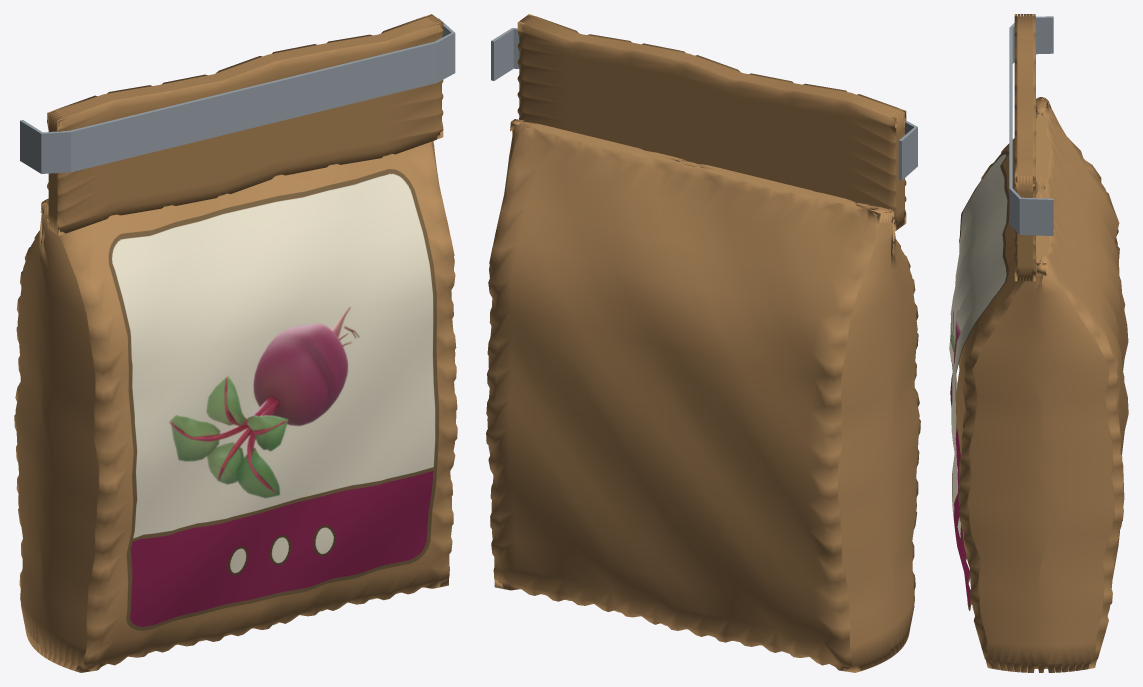
The model's file is beetroot_seed.glb.
3 views of the same model, side by side, from view 1: azimuth 30°, elevation 25°; view 2: azimuth 150°, elevation 25°; view 3: azimuth 270°, elevation 25° (orthographic). The views are drawn at different scales.
Visible parts, largest first — view 1: BeetrootSeed_Label, BeetrootSeed_Body, BeetrootSeed_Fold, BeetrootSeed_Tie; view 2: BeetrootSeed_Body, BeetrootSeed_Fold, BeetrootSeed_Tie; view 3: BeetrootSeed_Body, BeetrootSeed_Label, BeetrootSeed_Fold, BeetrootSeed_Tie.
Boxes of the visible parts, x1=… form: BeetrootSeed_Label: x1=108, y1=169, x2=438, y2=630; BeetrootSeed_Body: x1=14, y1=141, x2=457, y2=672; BeetrootSeed_Fold: x1=47, y1=14, x2=443, y2=235; BeetrootSeed_Tie: x1=20, y1=18, x2=455, y2=173; BeetrootSeed_Body: x1=486, y1=119, x2=920, y2=672; BeetrootSeed_Fold: x1=517, y1=14, x2=906, y2=231; BeetrootSeed_Tie: x1=491, y1=28, x2=917, y2=180; BeetrootSeed_Body: x1=956, y1=97, x2=1128, y2=672; BeetrootSeed_Label: x1=949, y1=150, x2=1009, y2=610; BeetrootSeed_Fold: x1=1014, y1=14, x2=1035, y2=281; BeetrootSeed_Tie: x1=1009, y1=16, x2=1053, y2=235.
Size of the model in its own units: 0.0917 by 0.1152 by 0.0378.
Materials: 4 (1 with a texture image).
